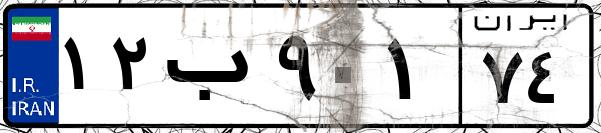0: (330, 28, 385, 110)
1: (385, 28, 445, 110), (57, 26, 110, 100)
2: (110, 28, 158, 98)
4: (525, 38, 570, 115)
7: (475, 38, 525, 113)
9: (270, 28, 330, 110)
ب: (158, 20, 270, 120)
